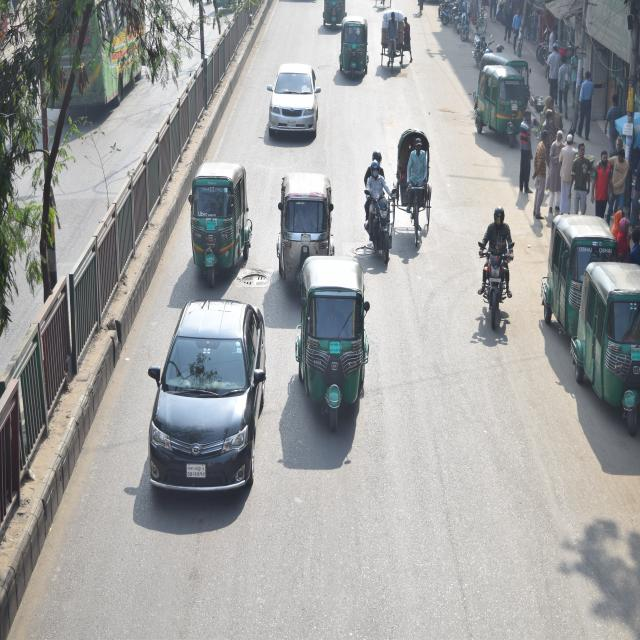bus: (42, 0, 148, 129)
car: (147, 298, 267, 500), (262, 58, 321, 140)
motorbike: (471, 229, 512, 340), (360, 183, 400, 260)
